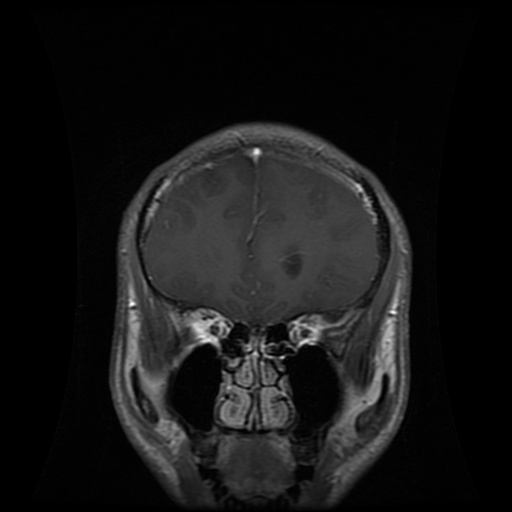glioma: (277, 243, 303, 280)
